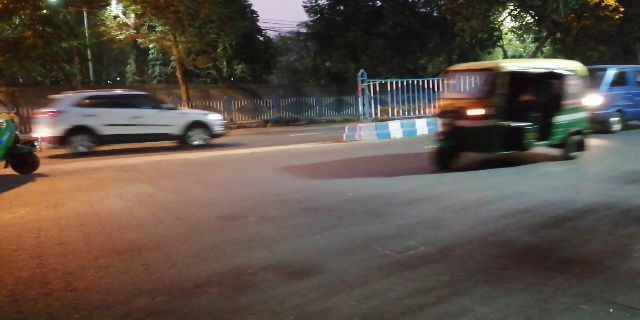Autorickshaw: (435, 55, 593, 159)
Car: (38, 91, 228, 150)
